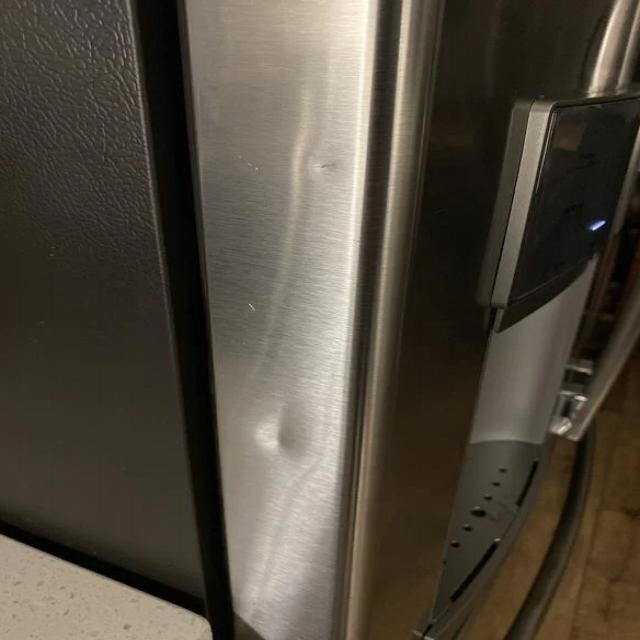dents: (248, 375, 334, 507), (284, 134, 382, 210)
